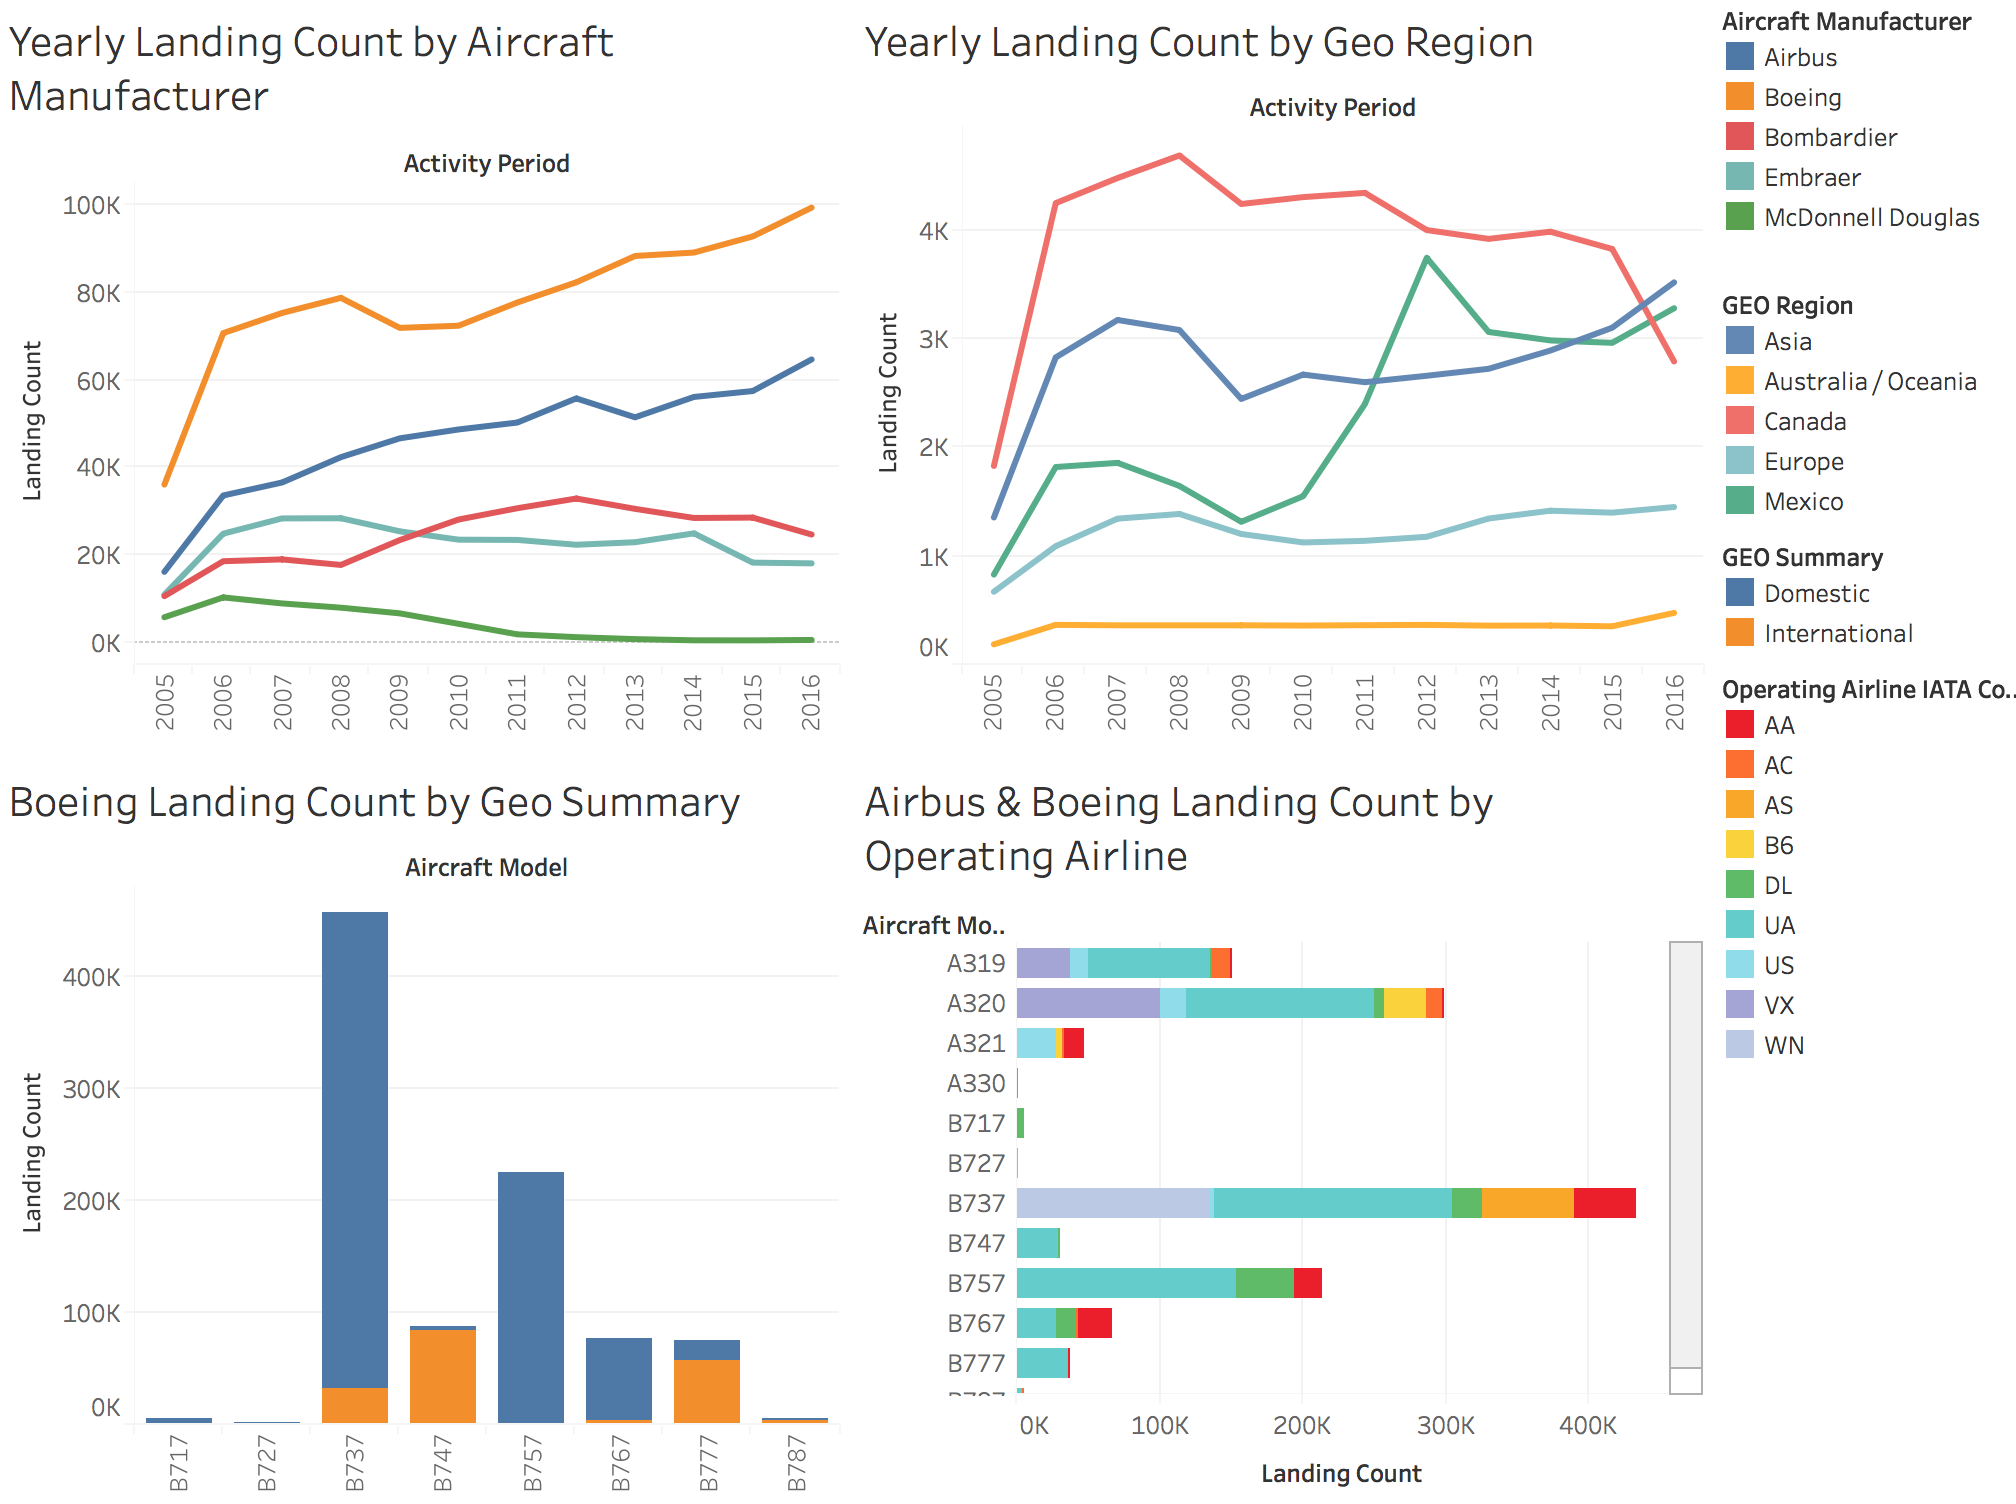

What the dashboard file says about the page in this screenshot:
{"tool":"tableau","page":{"name":"Dashboard 1","canvas":[1024,768],"ordinal":0},"visuals":[{"type":"worksheet","title":"Sheet 1","mark":"Automatic","rows":["Landing_Count"],"cols":["Activity_Period"],"box":[0,0,432,384]},{"type":"worksheet","title":"Sheet 2","mark":"Automatic","rows":["Landing_Count"],"cols":["Activity_Period"],"box":[432,0,432,384]},{"type":"legend","title":"Sheet 1","param":"[federated.114p4r90cryl7i1b76gtt00qruw8].[none:Aircraft_Manufacturer:nk]","box":[864,0,160,146]},{"type":"legend","title":"Sheet 2","param":"[federated.114p4r90cryl7i1b76gtt00qruw8].[none:GEO_Region:nk]","box":[864,146,160,126]},{"type":"legend","title":"Sheet 3","param":"[federated.114p4r90cryl7i1b76gtt00qruw8].[none:GEO_Summary:nk]","box":[864,272,160,66]},{"type":"legend","title":"Sheet 4","param":"[federated.114p4r90cryl7i1b76gtt00qruw8].[none:Operating_Airline_IATA_Code:nk]","box":[864,338,160,206]},{"type":"worksheet","title":"Sheet 3","mark":"Automatic","rows":["Landing_Count"],"cols":["Aircraft_Model"],"box":[0,384,432,384]},{"type":"worksheet","title":"Sheet 4","mark":"Automatic","rows":["Aircraft_Model"],"cols":["Landing_Count"],"box":[432,384,432,384]}]}

Visuals, with their boxes in screenshot pixels (x1, y1, x2, y2), scaled from the page's 1024x768 canvas onto the 2016x1504 screenshot:
"Sheet 1" worksheet: [x1=0, y1=0, x2=850, y2=752]
"Sheet 2" worksheet: [x1=850, y1=0, x2=1701, y2=752]
"Sheet 1" legend: [x1=1701, y1=0, x2=2015, y2=286]
"Sheet 2" legend: [x1=1701, y1=286, x2=2015, y2=533]
"Sheet 3" legend: [x1=1701, y1=533, x2=2015, y2=662]
"Sheet 4" legend: [x1=1701, y1=662, x2=2015, y2=1065]
"Sheet 3" worksheet: [x1=0, y1=752, x2=850, y2=1503]
"Sheet 4" worksheet: [x1=850, y1=752, x2=1701, y2=1503]
